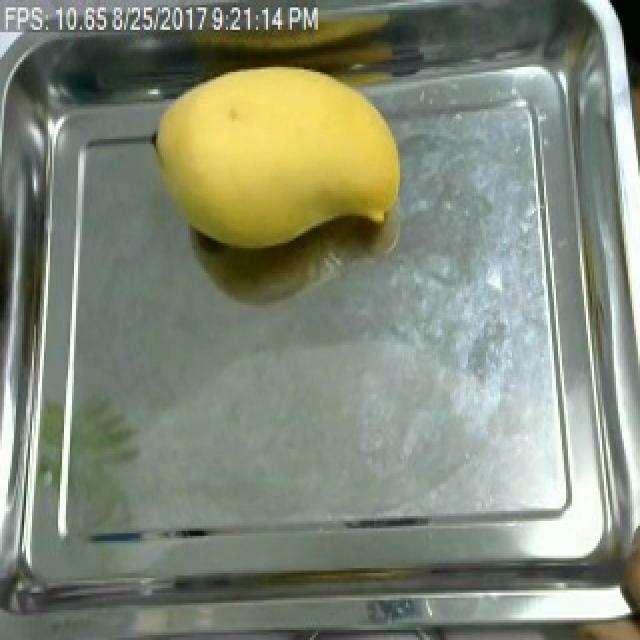fruit: (142, 49, 414, 266)
